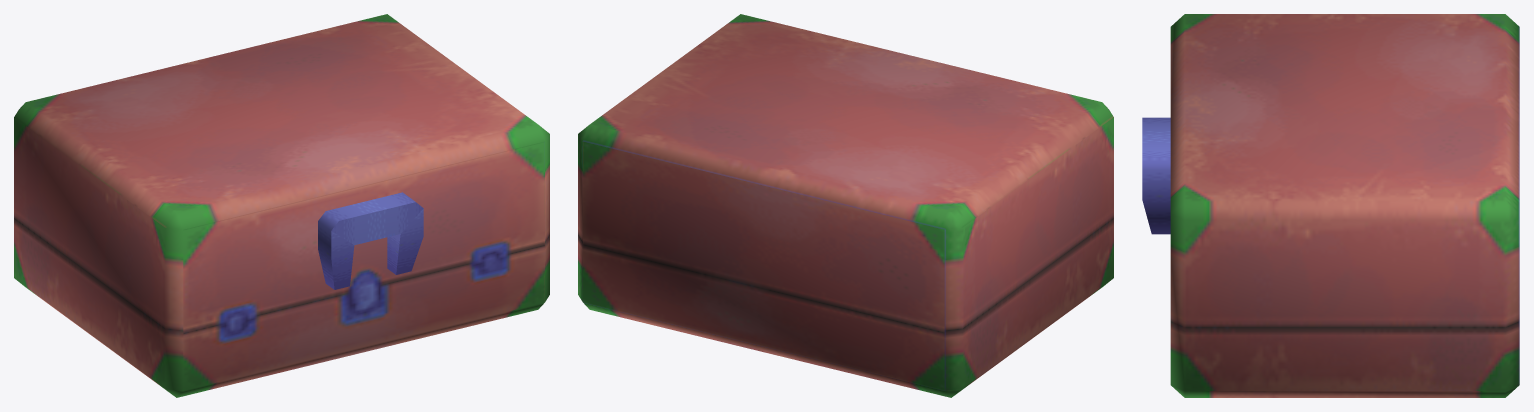
The model's file is luggage_suitcase_01.glb.
3 renders of one model, left to right at view 1: azimuth 30°, elevation 25°; view 2: azimuth 150°, elevation 25°; view 3: azimuth 270°, elevation 25°, orthographic. The views are drawn at different scales.
Visible parts, largest first — view 1: manor.luggage_suitcase_01-Mesh[0]; view 2: manor.luggage_suitcase_01-Mesh[0]; view 3: manor.luggage_suitcase_01-Mesh[0].
Boxes of the visible parts, x1,y1,x2,y2 form: manor.luggage_suitcase_01-Mesh[0]: [14, 14, 549, 397]; manor.luggage_suitcase_01-Mesh[0]: [578, 14, 1113, 397]; manor.luggage_suitcase_01-Mesh[0]: [1142, 14, 1519, 397].
Bounding box in the file's own units: 1 × 0.46 × 0.8.
Materials: 1 (1 with a texture image).
